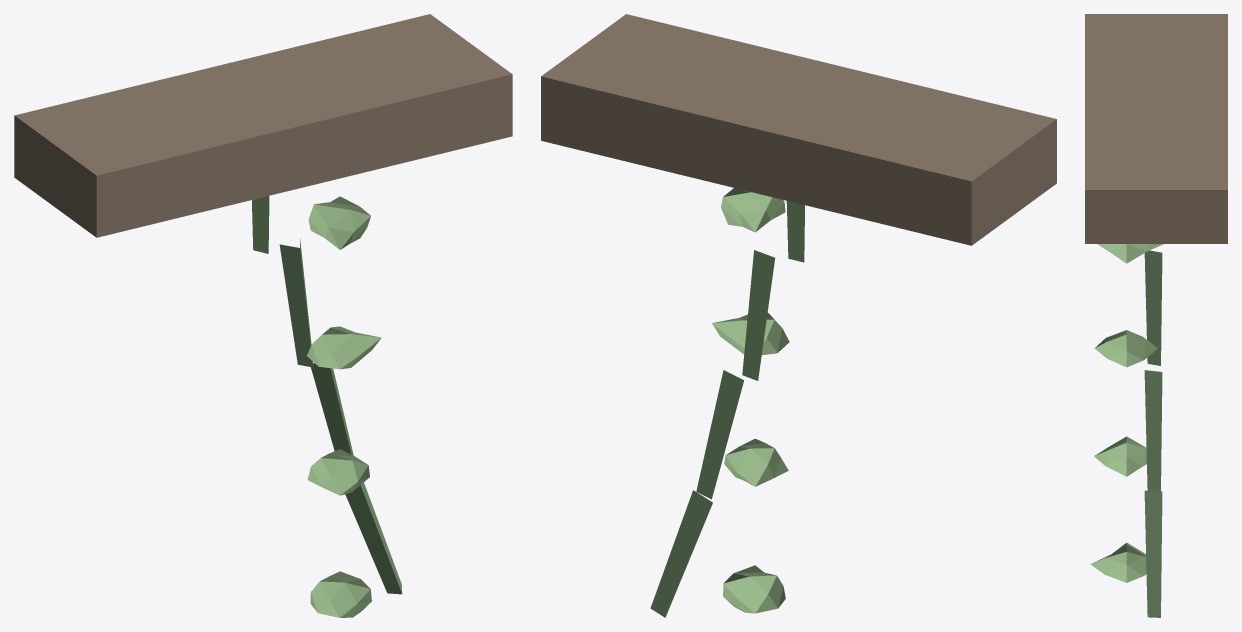
File: vine_v25.glb
3 renders of one model, left to right at view 1: azimuth 30°, elevation 25°; view 2: azimuth 150°, elevation 25°; view 3: azimuth 270°, elevation 25°, orthographic. The views are drawn at different scales.
Parts seen in each view (by area): view 1: lod0; view 2: lod0; view 3: lod0.
Part boxes in pixels (x1,y1,x2,y2): lod0: (14, 14, 512, 617); lod0: (541, 14, 1056, 617); lod0: (1085, 14, 1227, 617).
Size of what is drawn, in the model's own units: 0.7 by 0.8546 by 0.24.
